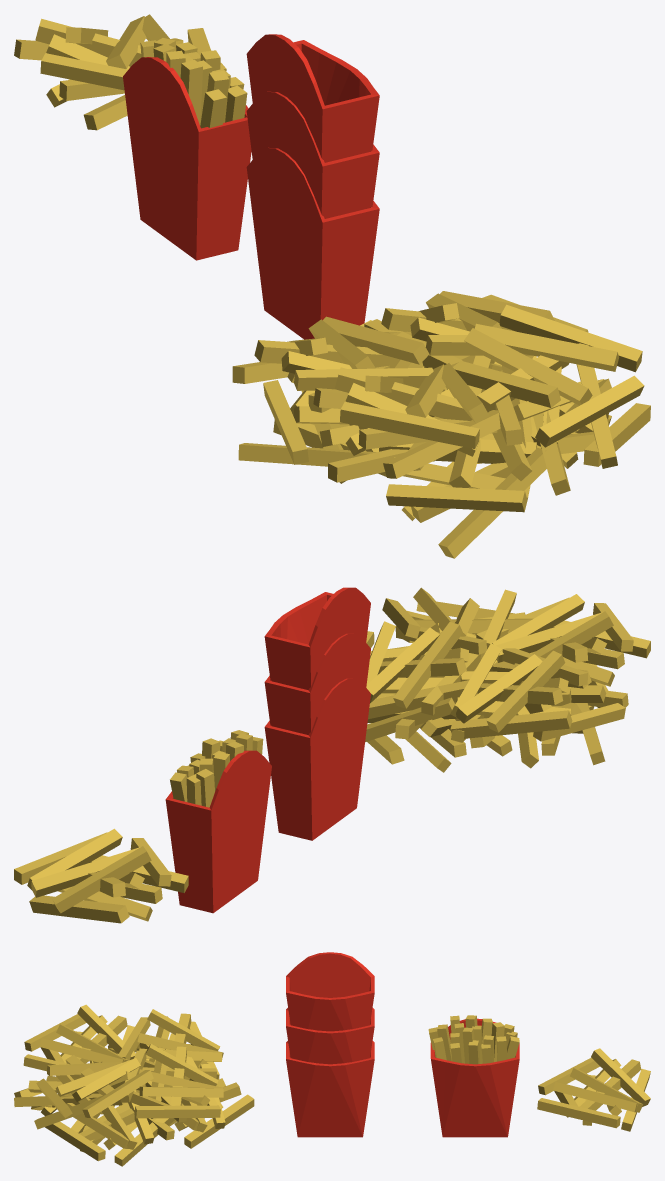
File: Fries.fbx
The picture shows the model from 3 angles, top to bottom: view 1: azimuth 30°, elevation 25°; view 2: azimuth 150°, elevation 25°; view 3: azimuth 270°, elevation 25°; orthographic projection. The views are drawn at different scales.
Parts seen in each view (by area): view 1: FriesAlot, PackTower, Pack, Fries, PackedFries; view 2: FriesAlot, PackTower, Pack, Fries, PackedFries; view 3: FriesAlot, PackTower, Pack, Fries, PackedFries.
Boxes of the visible parts, bbox=[...] form: FriesAlot: bbox=[232, 291, 650, 558]; PackTower: bbox=[246, 34, 379, 339]; Pack: bbox=[123, 57, 251, 260]; Fries: bbox=[14, 14, 211, 130]; PackedFries: bbox=[140, 38, 247, 128]; FriesAlot: bbox=[365, 587, 650, 772]; PackTower: bbox=[264, 587, 370, 840]; Pack: bbox=[165, 750, 271, 913]; Fries: bbox=[14, 828, 188, 923]; PackedFries: bbox=[170, 730, 263, 807]; FriesAlot: bbox=[14, 1004, 254, 1166]; PackTower: bbox=[286, 952, 374, 1137]; Pack: bbox=[430, 1018, 519, 1137]; Fries: bbox=[537, 1048, 650, 1131]; PackedFries: bbox=[428, 1015, 519, 1064].
Bounding box in the file's own units: 37.37 × 31.31 × 98.67.
